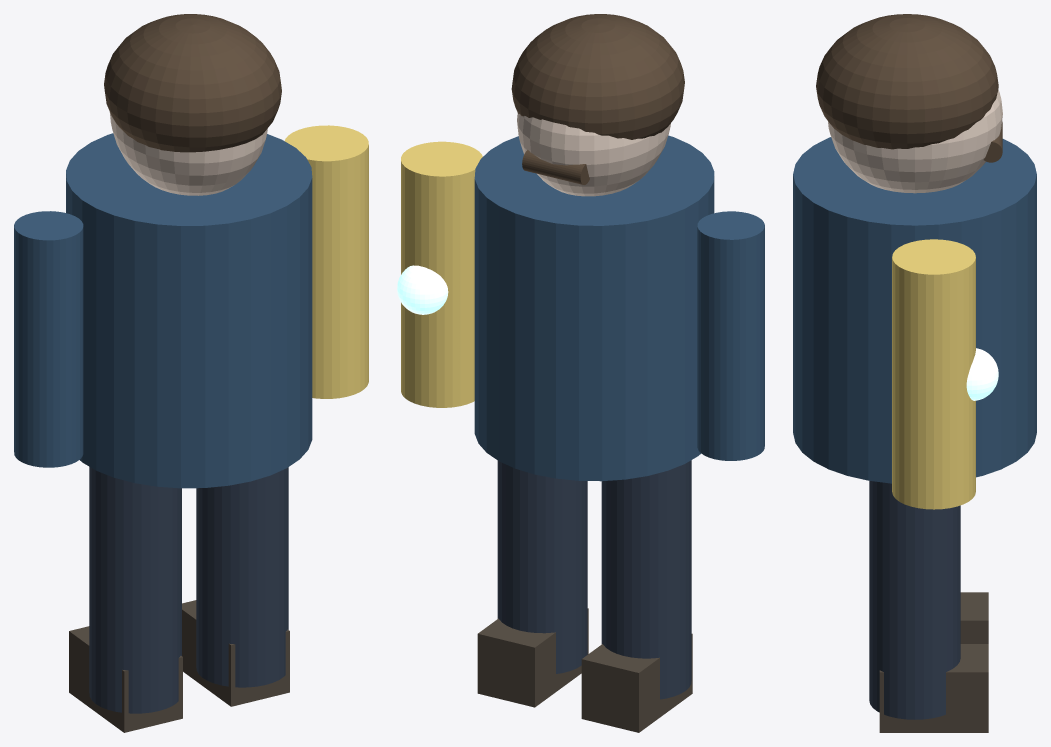
Rendered from Gustave.fbx.
3 views of the same model, side by side, from view 1: azimuth 30°, elevation 25°; view 2: azimuth 150°, elevation 25°; view 3: azimuth 270°, elevation 25° (orthographic). The views are drawn at different scales.
Visible parts, largest first — view 1: Gustave_Model; view 2: Gustave_Model; view 3: Gustave_Model.
Part boxes in pixels (left/top/right/bottom): Gustave_Model: left=14, top=14, right=368, bottom=732; Gustave_Model: left=397, top=14, right=764, bottom=732; Gustave_Model: left=793, top=14, right=1036, bottom=732.
Size of the model in its own units: 1.06 by 1.94 by 0.64.
